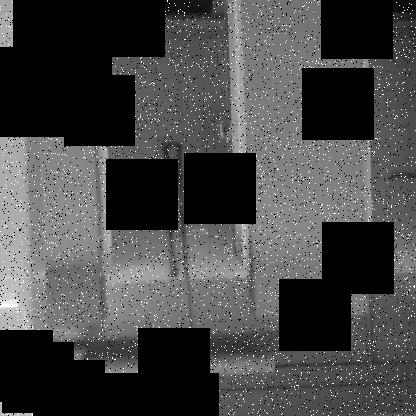Porte: (88, 1, 254, 279)
